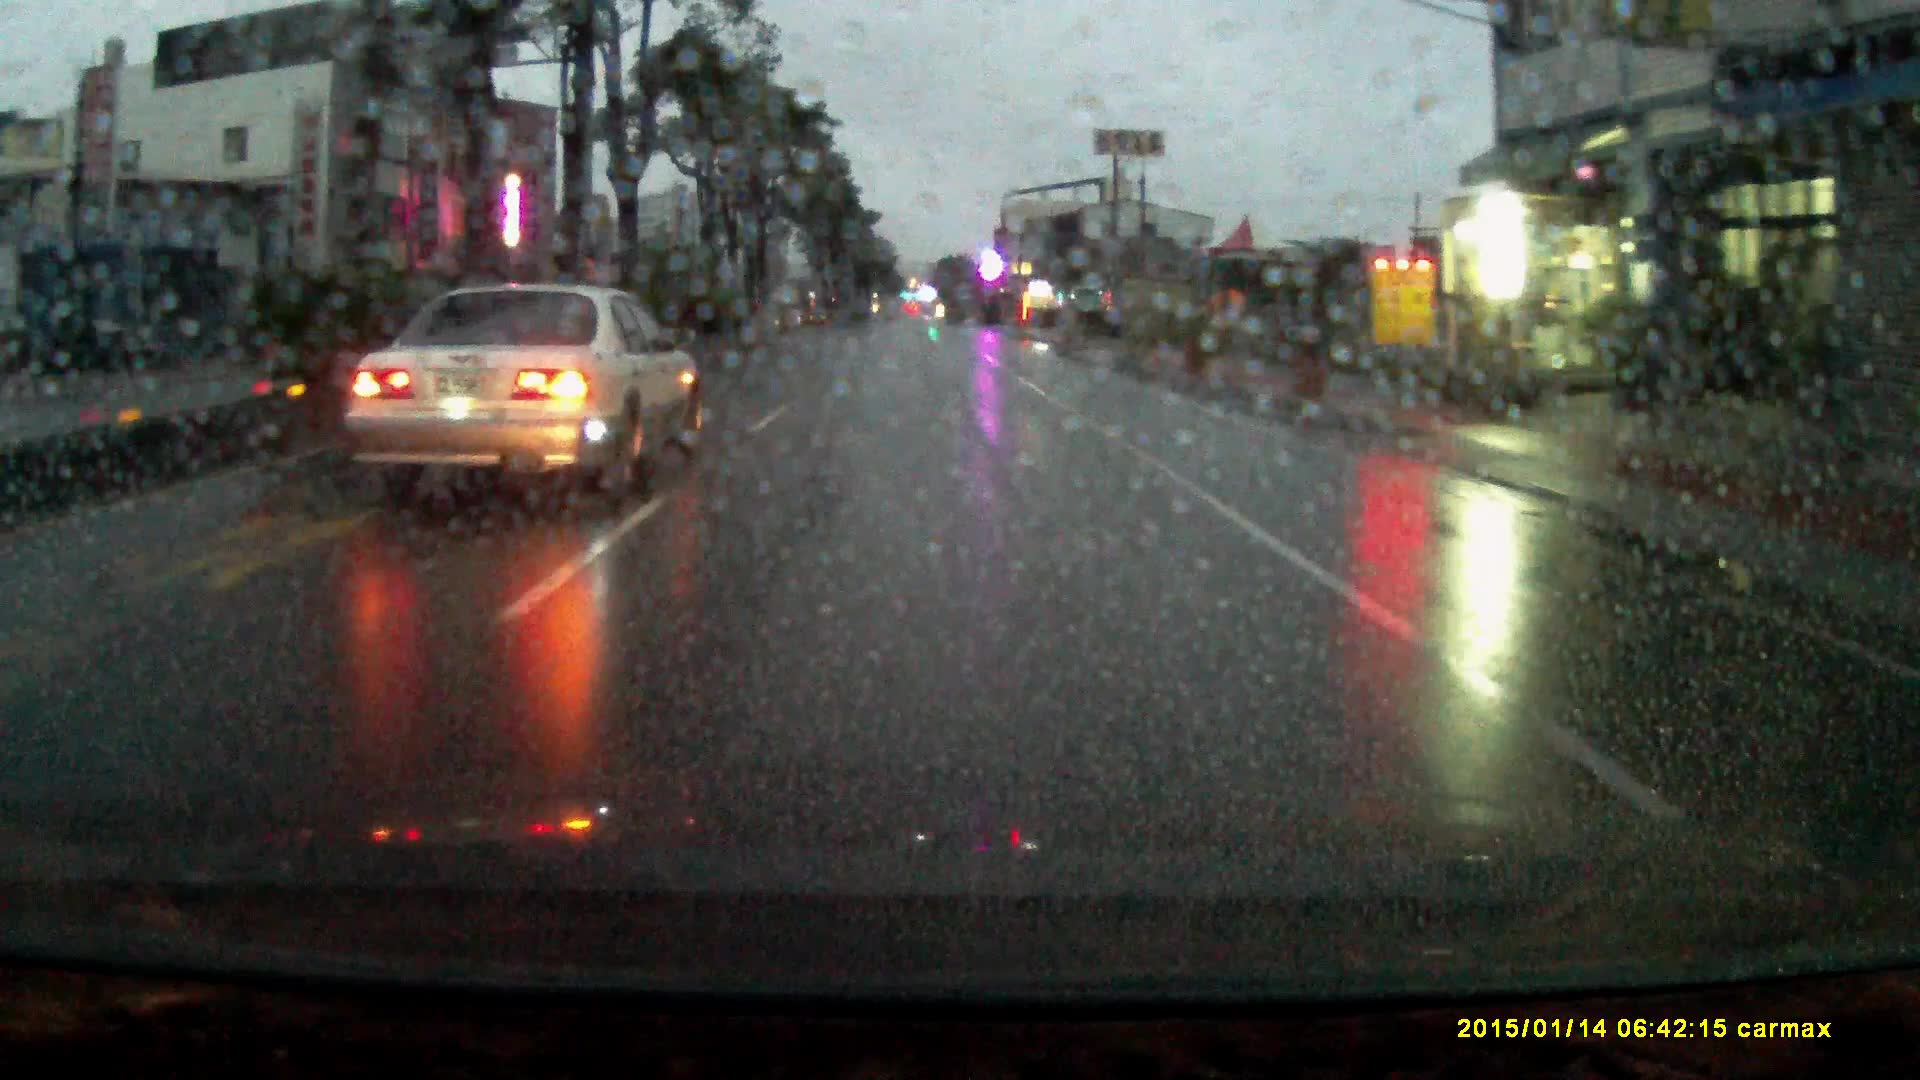vehicle: (338, 289, 704, 512)
